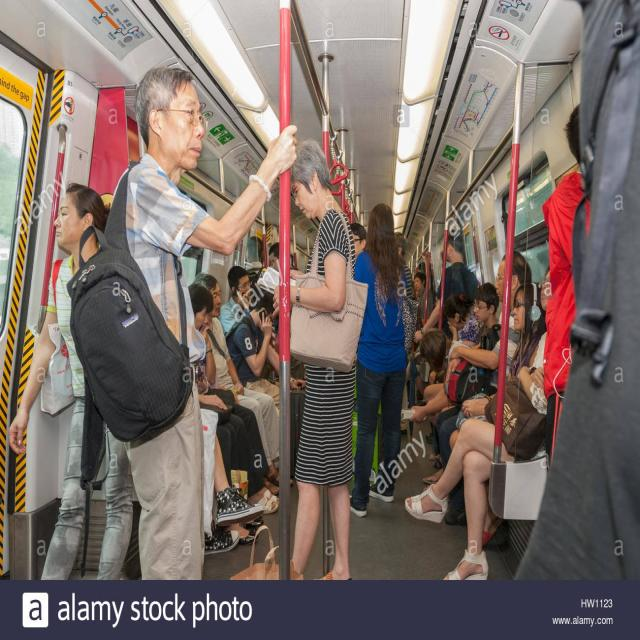body: (66, 61, 298, 582), (518, 0, 640, 640), (10, 183, 136, 580), (403, 263, 551, 581), (271, 137, 358, 582), (428, 246, 536, 516), (448, 280, 548, 557), (192, 271, 296, 496), (349, 201, 421, 519), (186, 280, 282, 516), (541, 103, 588, 476), (434, 281, 500, 446), (224, 292, 302, 412), (422, 293, 486, 429), (412, 227, 480, 345), (409, 330, 482, 428), (218, 451, 266, 555), (198, 418, 218, 560), (216, 265, 252, 335), (393, 230, 416, 304), (413, 270, 428, 351), (350, 221, 368, 263), (268, 240, 280, 272), (416, 245, 430, 271)
